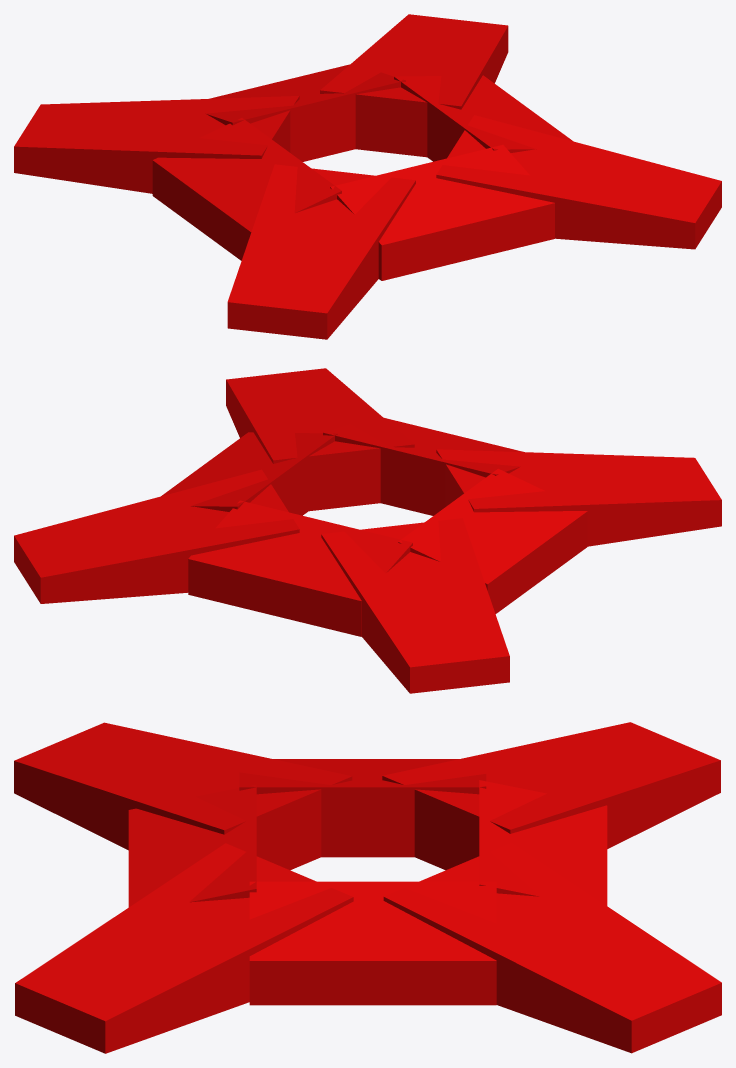
Rendered from SM_Bld_Bunker_Hatch_Round_01_Collision.fbx.
3 renders of one model, top to bottom at view 1: azimuth 30°, elevation 25°; view 2: azimuth 150°, elevation 25°; view 3: azimuth 270°, elevation 25°, orthographic. The views are drawn at different scales.
Visible parts, largest first — view 1: SM_Bld_Bunker_Hatch_Round_01_Collision; view 2: SM_Bld_Bunker_Hatch_Round_01_Collision; view 3: SM_Bld_Bunker_Hatch_Round_01_Collision.
Part boxes in pixels (left/top/right/bottom): SM_Bld_Bunker_Hatch_Round_01_Collision: left=14, top=14, right=721, bottom=339; SM_Bld_Bunker_Hatch_Round_01_Collision: left=14, top=368, right=721, bottom=693; SM_Bld_Bunker_Hatch_Round_01_Collision: left=14, top=722, right=721, bottom=1053.
Size of the model in its own units: 554 by 60.29 by 554.
